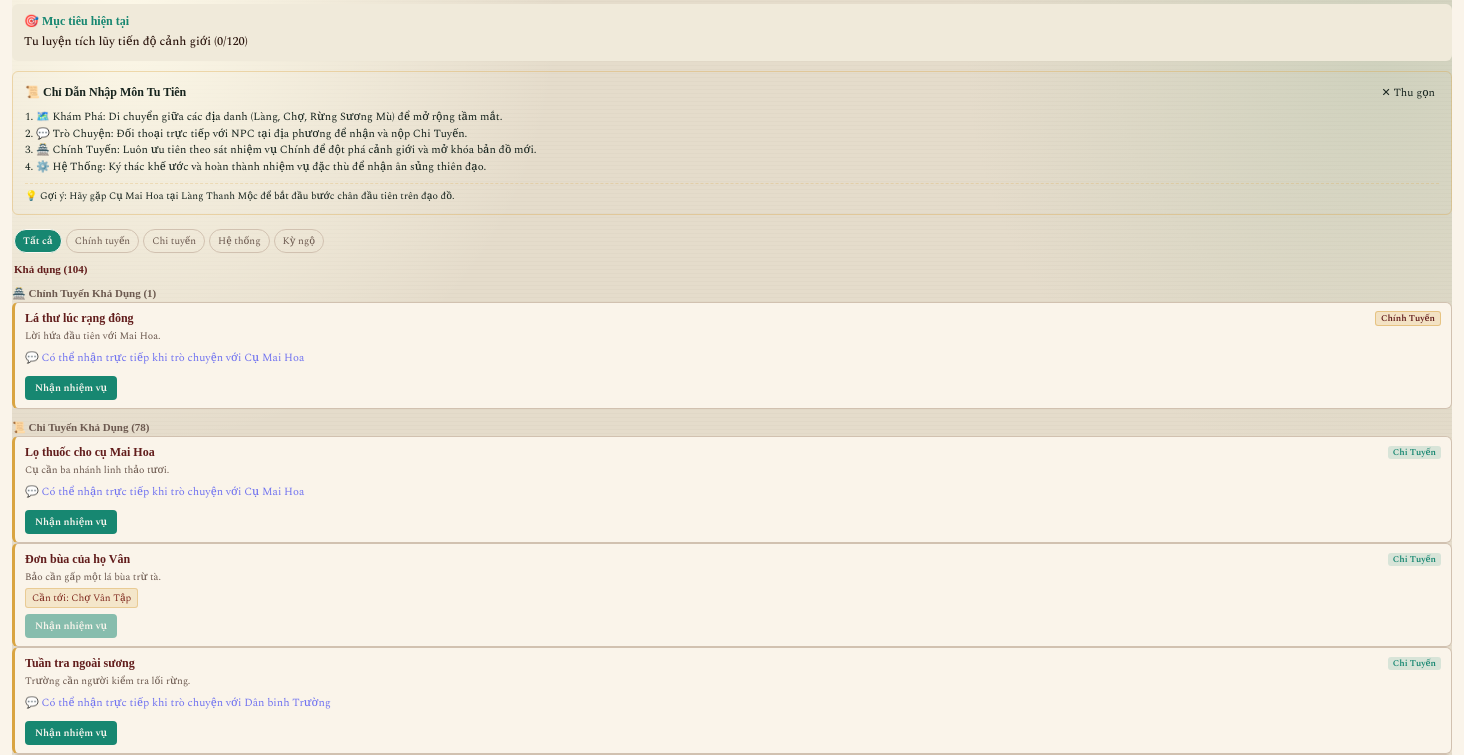
Quest Tab - Onboarding Guide & Categorization (Second Brain MDA & Schell) › can dismiss and reopen the beginner guide card
The width and height of the screenshot is (1464, 755).
Click the button with aria-label "Thu gọn chỉ dẫn".
click(1408, 92)  # box [1377,82,1439,103]
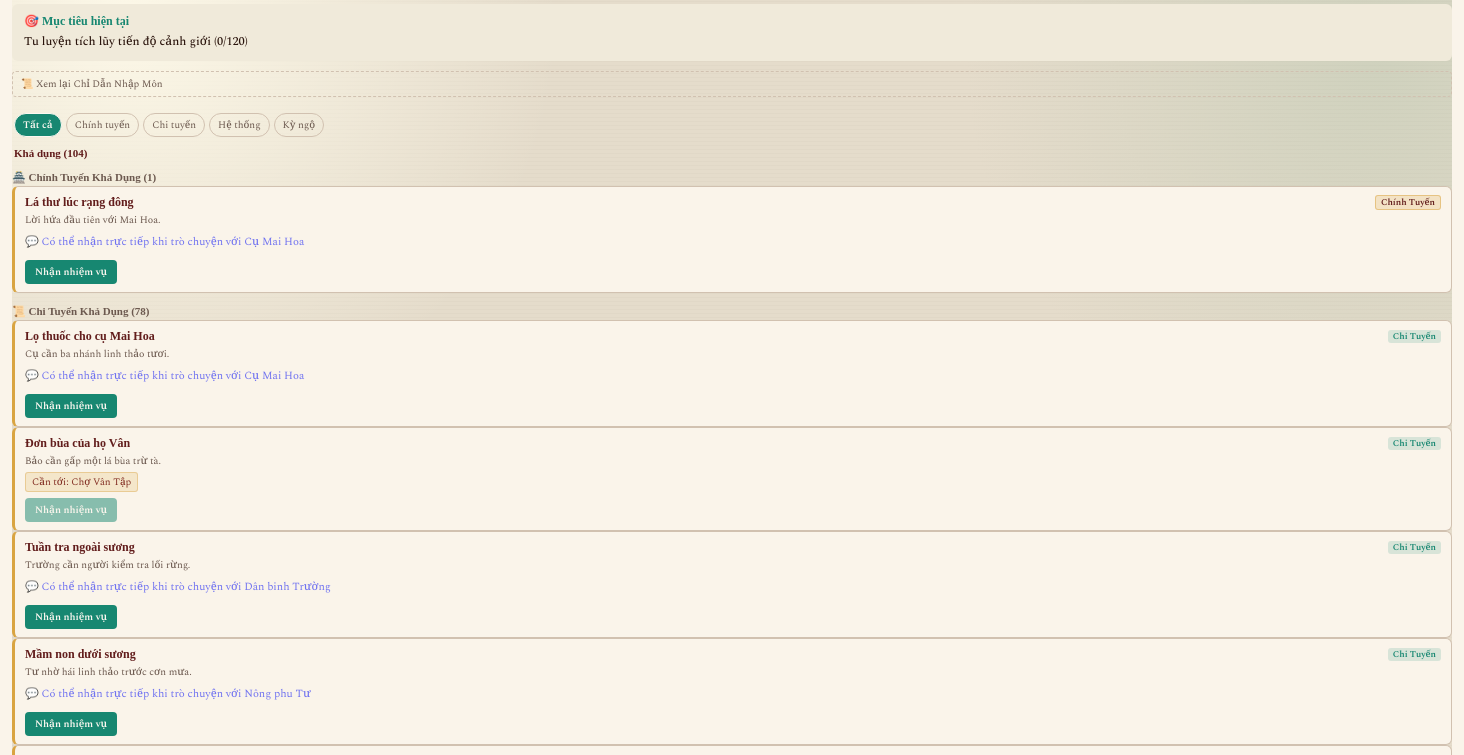
Expected: the element with test id "quest-onboarding-guide" is gone
Expected: the button "📜 Xem lại Chỉ Dẫn Nhập Môn" is shown
Click the button "📜 Xem lại Chỉ Dẫn Nhập Môn".
click(92, 84)  # box [12,71,1452,97]
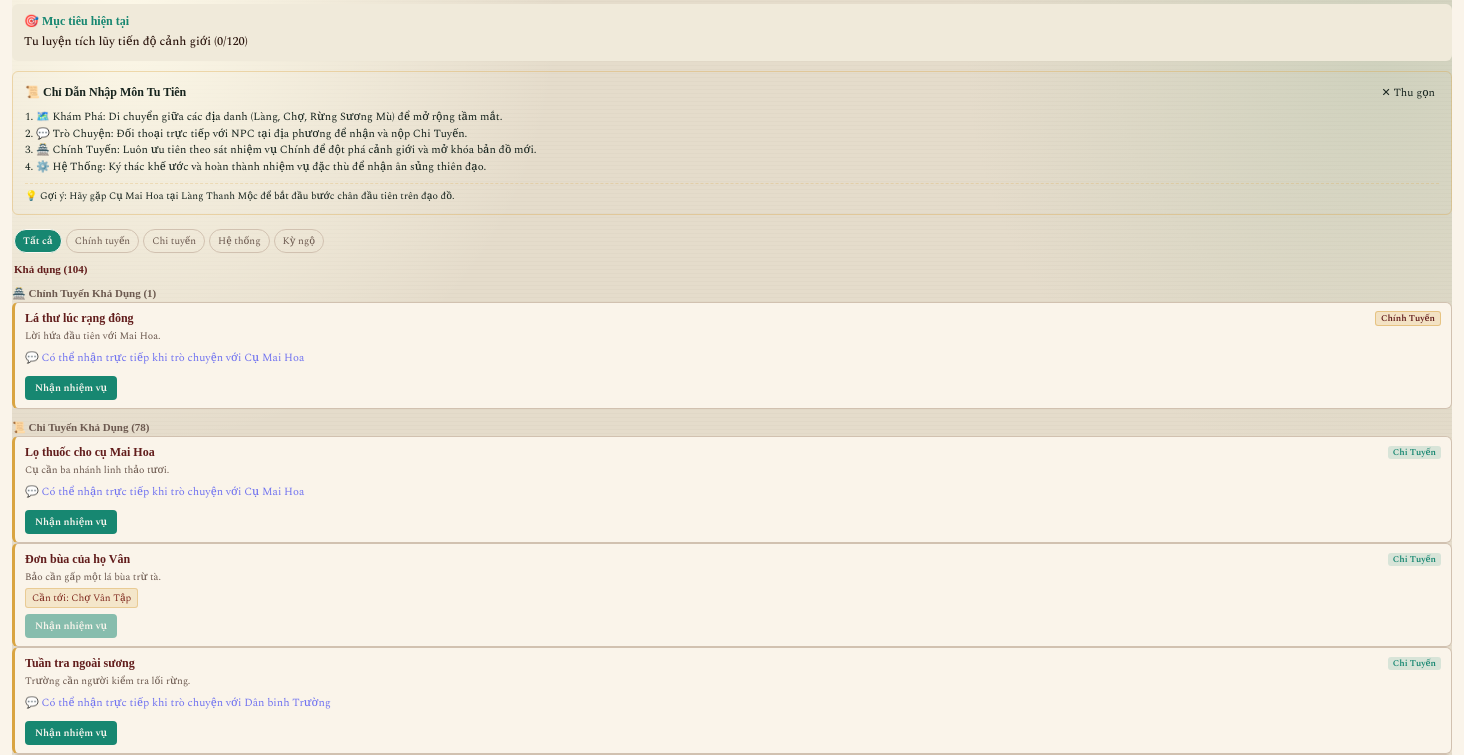
Expected: the element with test id "quest-onboarding-guide" is shown, [12,71,1452,215]
